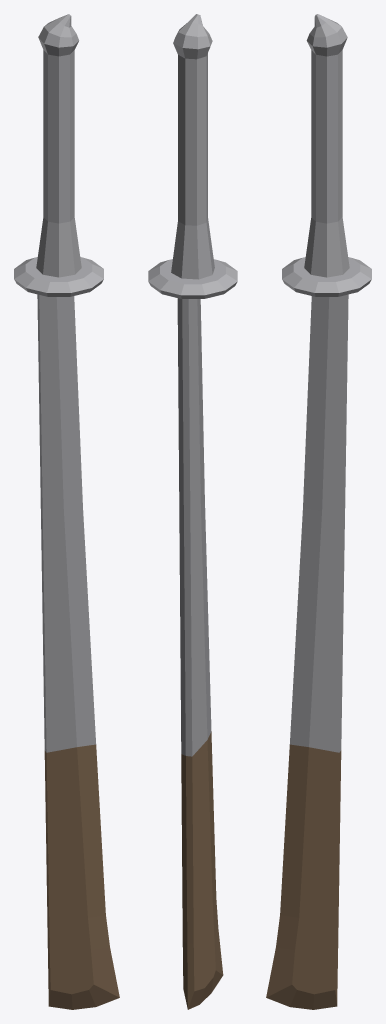
Rendered from Sword_D.glb.
The picture shows the model from 3 angles, left to right: view 1: azimuth 90°, elevation 25°; view 2: azimuth 150°, elevation 25°; view 3: azimuth 270°, elevation 25°; orthographic projection.
Parts seen in each view (by area): view 1: Sword_D; view 2: Sword_D; view 3: Sword_D.
Part boxes in pixels (box(x1,y1,x2,y2)): Sword_D: box(14, 14, 119, 1009); Sword_D: box(148, 14, 237, 1009); Sword_D: box(266, 14, 371, 1009).
Size of the model in its own units: 0.0819 by 1 by 0.0964.
